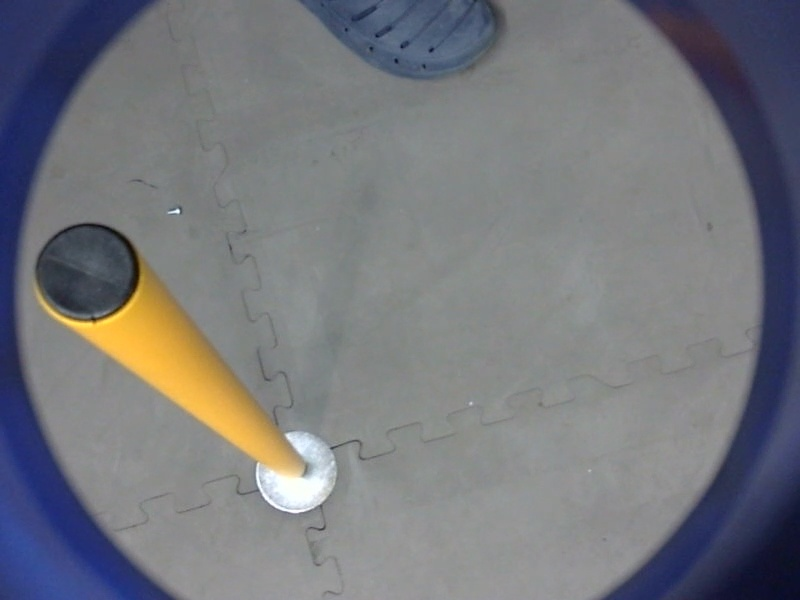tip: (25, 214, 148, 330)
